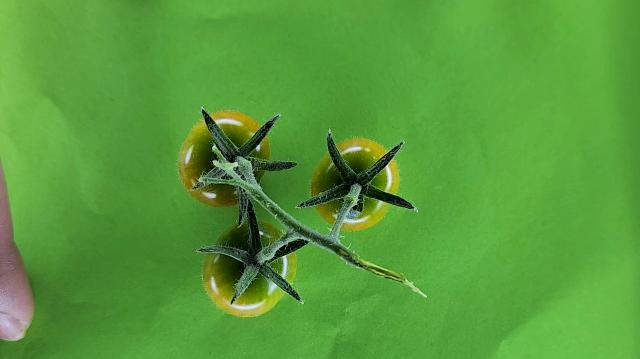Fully Grown: (201, 219, 296, 317), (179, 110, 272, 207), (310, 138, 401, 231)
